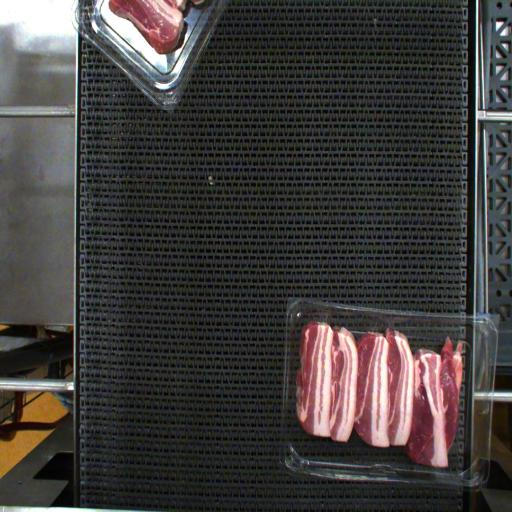packaging-error: (318, 306, 333, 328), (385, 320, 399, 333)
